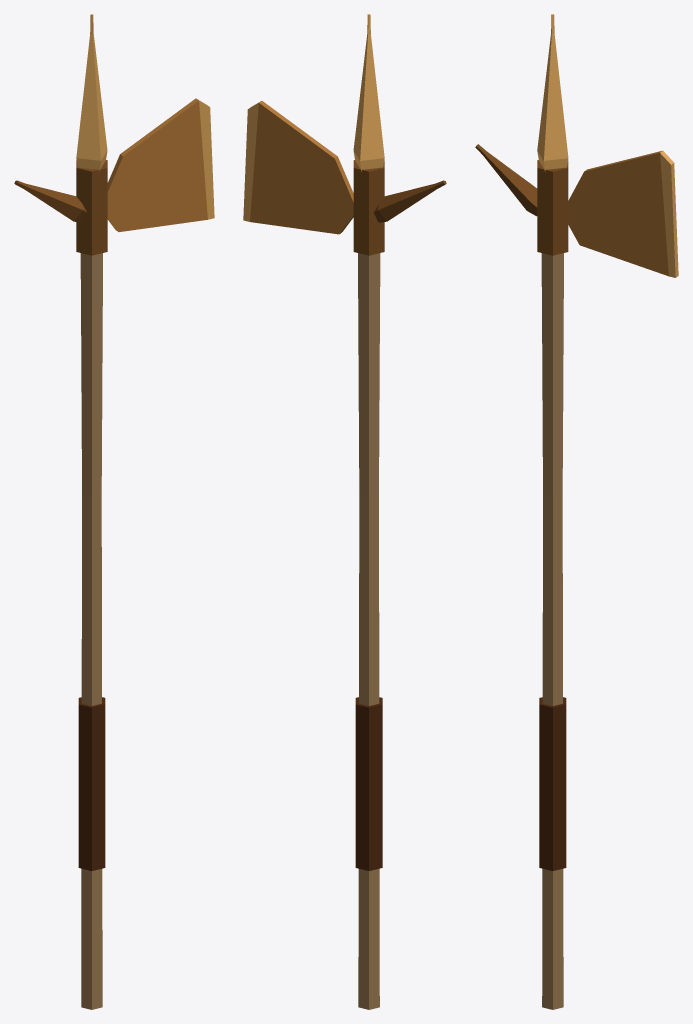
Rendered from wpn_melee_2h_2.glb.
The picture shows the model from 3 angles, left to right: view 1: azimuth 30°, elevation 25°; view 2: azimuth 150°, elevation 25°; view 3: azimuth 330°, elevation 25°; orthographic projection.
Parts seen in each view (by area): view 1: wpn_melee_2h_2; view 2: wpn_melee_2h_2; view 3: wpn_melee_2h_2.
Boxes of the visible parts, x1,y1,x2,y2 form: wpn_melee_2h_2: (14,14,214,1009); wpn_melee_2h_2: (243,14,446,1009); wpn_melee_2h_2: (475,14,678,1009).
Size of the model in its own units: 0.4472 by 2.12 by 0.07.
